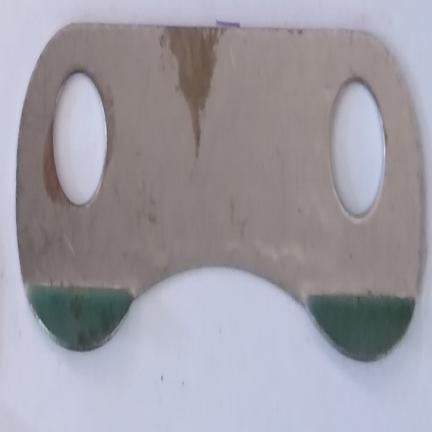karat: (162, 21, 228, 150)
